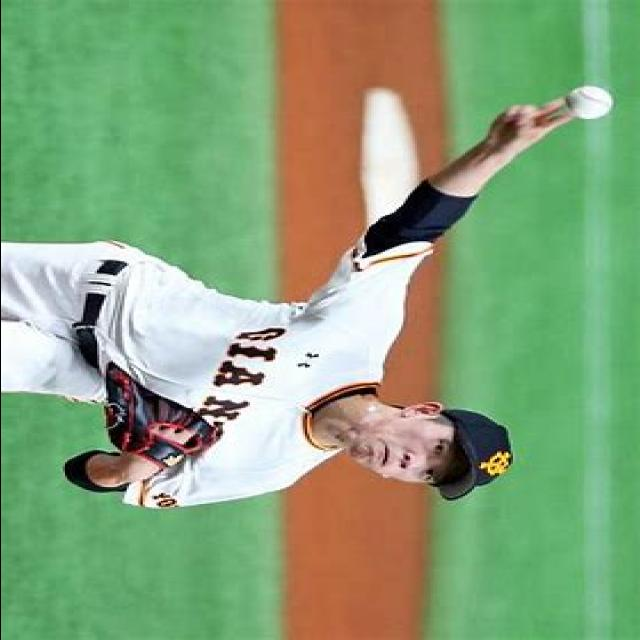ball: (563, 84, 615, 120)
